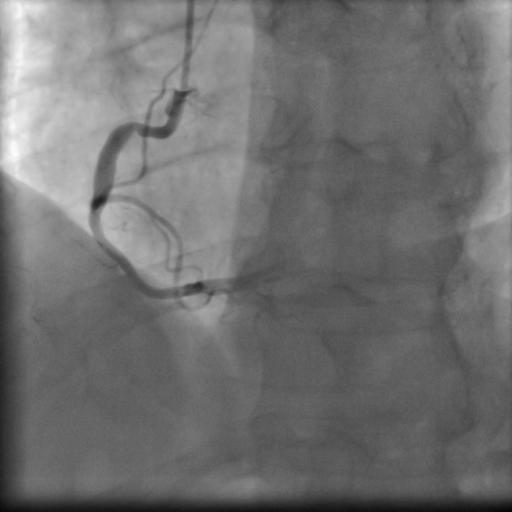Stenosis: (87, 206, 105, 233)
